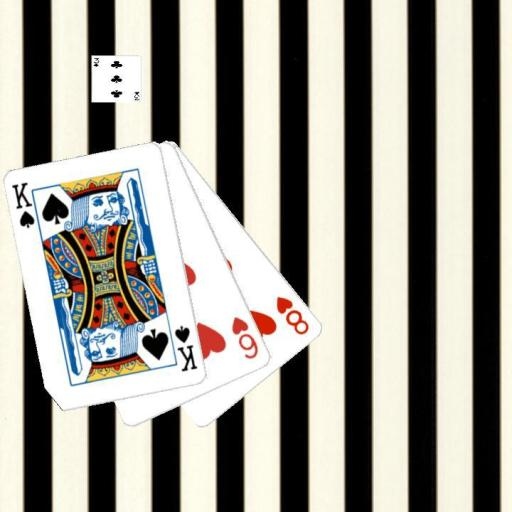6H: (229, 314, 261, 361)
8H: (273, 293, 312, 337)
KS: (9, 179, 43, 233), (171, 322, 200, 373)
